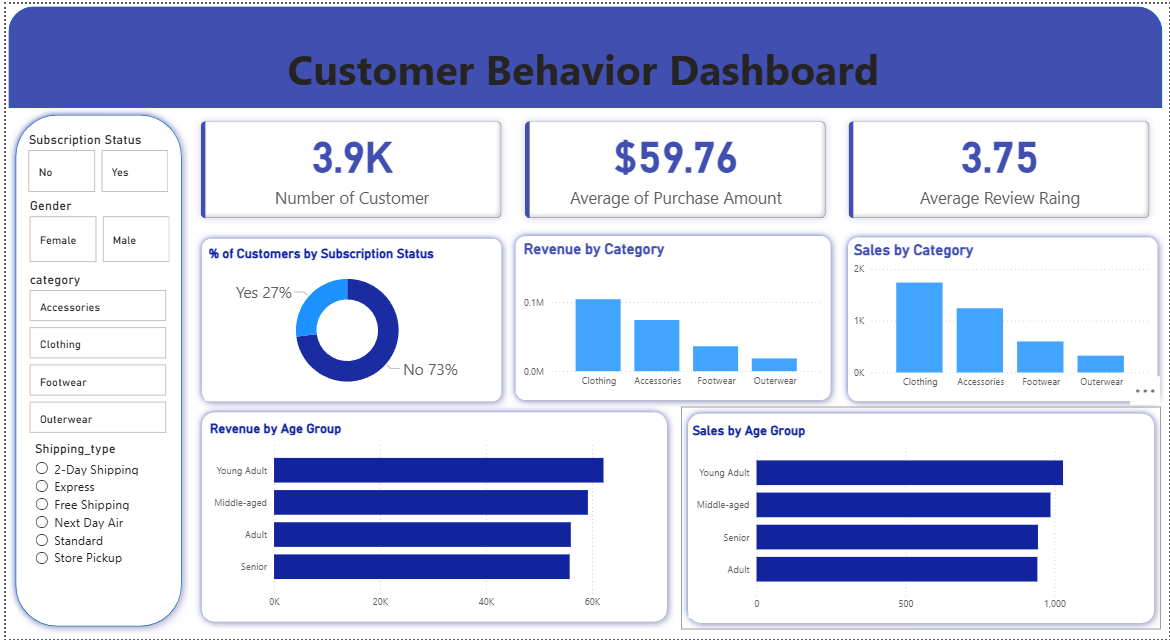

What the dashboard file says about the page in this screenshot:
{"tool":"powerbi","page":{"name":"Page 1","canvas":[1500,820],"ordinal":0},"visuals":[{"type":"cardVisual","fields":{"Data":["public customer_pro.Number of Customer","public customer_pro.Average of Purchase Amount","public customer_pro.Average Review Raing"]},"box":[235.1,135.1,1256.5,157.4],"z":0},{"type":"shape","box":[2.8,2.8,1488.9,130.9],"z":1000},{"type":"textbox","box":[357.4,41.8,897.4,87.7],"z":2000},{"type":"shape","box":[243.7,293.9,405,228.4],"z":3000},{"type":"donutChart","title":"% of Customers by Subscription Status","fields":{"Category":["public customer_pro.subscription_status"],"Y":["Count(public customer_pro.customer_id)"]},"box":[257.1,310.6,368.2,200.5],"z":4000},{"type":"shape","box":[647.6,289.7,424.8,229.8],"z":5000},{"type":"shape","box":[1076.8,292.5,417.5,229.8],"z":6000},{"type":"clusteredColumnChart","title":"Sales by Category","fields":{"Y":["Count(public customer_pro.customer_id)"],"Category":["public customer_pro.category"]},"box":[1089.1,306.4,392.7,199.2],"z":7000},{"type":"clusteredColumnChart","title":"Revenue by Category","fields":{"Y":["Sum(public customer_pro.purchase_amount)"],"Category":["public customer_pro.category"]},"box":[662.4,305.3,395.5,199.2],"z":8000},{"type":"shape","box":[2.8,133.4,232.6,678.5],"z":9000},{"type":"advancedSlicerVisual","fields":{"Values":["public customer_pro.subscription_status"]},"box":[23.7,164.3,190.8,84.1],"z":10000},{"type":"advancedSlicerVisual","fields":{"Values":["public customer_pro.gender"]},"box":[25.1,250.7,190.8,88.9],"z":11000},{"type":"advancedSlicerVisual","fields":{"Values":["public customer_pro.category"]},"box":[26.5,345.4,186.6,216.4],"z":12000},{"type":"listSlicer","fields":{"Values":["public customer_pro.shipping_type"]},"box":[32,562.6,176.9,217.8],"z":13000},{"type":"shape","box":[243,517.7,618.3,288.3],"z":15000},{"type":"shape","box":[870.4,519.5,619.7,288.3],"z":16000},{"type":"clusteredBarChart","title":"Sales by Age Group","fields":{"Y":["Count(public customer_pro.customer_id)"],"Category":["public customer_pro.age_group"]},"box":[881.3,540.1,569.6,252.1],"z":17000},{"type":"clusteredBarChart","title":"Revenue by Age Group","fields":{"Category":["public customer_pro.age_group"],"Y":["Sum(public customer_pro.purchase_amount)"]},"box":[257.9,537.6,581.9,252.1],"z":17001}]}

Visuals, with their boxes in screenshot pixels (x1, y1, x2, y2), scaled from the page's 1500x820 canvas onto the 1170x640 screenshot:
cardVisual - public customer_pro.Number of Customer x public customer_pro.Average of Purchase Amount: rect(183, 105, 1163, 228)
shape: rect(2, 2, 1164, 104)
textbox: rect(279, 33, 979, 101)
shape: rect(190, 229, 506, 408)
"% of Customers by Subscription Status" donutChart: rect(201, 242, 488, 399)
shape: rect(505, 226, 836, 405)
shape: rect(840, 228, 1166, 408)
"Sales by Category" clusteredColumnChart: rect(849, 239, 1156, 395)
"Revenue by Category" clusteredColumnChart: rect(517, 238, 825, 394)
shape: rect(2, 104, 184, 634)
advancedSlicerVisual - public customer_pro.subscription_status: rect(18, 128, 167, 194)
advancedSlicerVisual - public customer_pro.gender: rect(20, 196, 168, 265)
advancedSlicerVisual - public customer_pro.category: rect(21, 270, 166, 438)
listSlicer - public customer_pro.shipping_type: rect(25, 439, 163, 609)
shape: rect(190, 404, 672, 629)
shape: rect(679, 405, 1162, 630)
"Sales by Age Group" clusteredBarChart: rect(687, 422, 1132, 618)
"Revenue by Age Group" clusteredBarChart: rect(201, 420, 655, 616)
